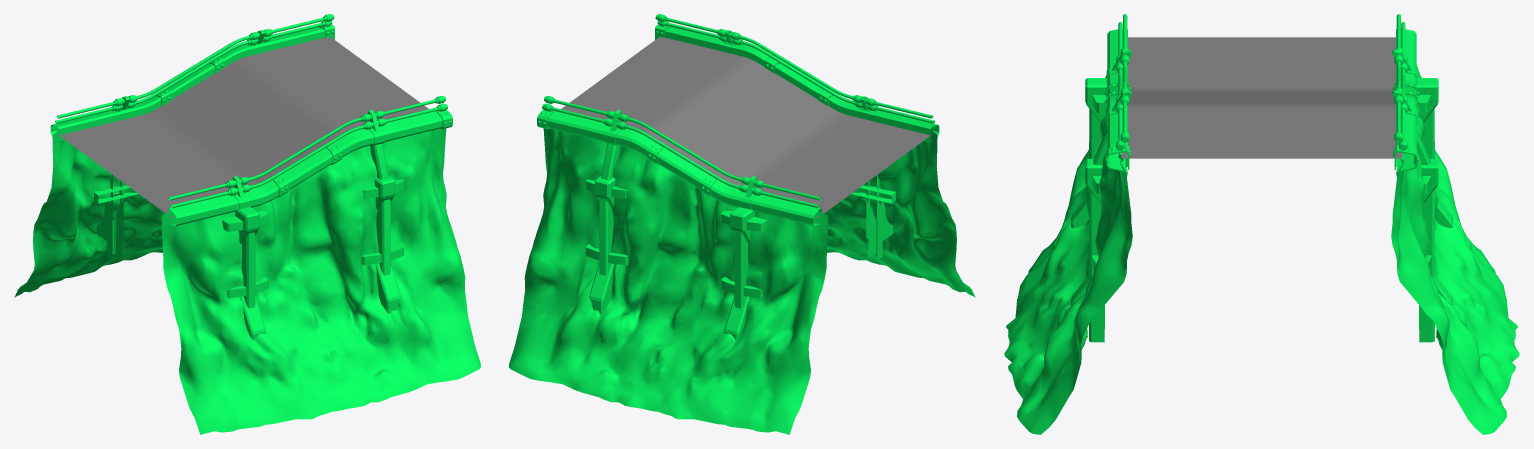
File: Track_02_2.fbx
3 views of the same model, side by side, from view 1: azimuth 30°, elevation 25°; view 2: azimuth 150°, elevation 25°; view 3: azimuth 270°, elevation 25° (orthographic). The views are drawn at different scales.
Visible parts, largest first — view 1: Side_Rock_003, Road_003; view 2: Side_Rock_003, Road_003; view 3: Side_Rock_003, Road_003.
Boxes of the visible parts, x1=… form: Side_Rock_003: x1=14, y1=14, x2=480, y2=434; Road_003: x1=58, y1=37, x2=428, y2=217; Side_Rock_003: x1=509, y1=14, x2=975, y2=434; Road_003: x1=561, y1=37, x2=931, y2=217; Side_Rock_003: x1=1004, y1=14, x2=1519, y2=434; Road_003: x1=1121, y1=37, x2=1402, y2=158.
Size of what is drawn, in the model's own units: 3159 by 4039 by 2600.
